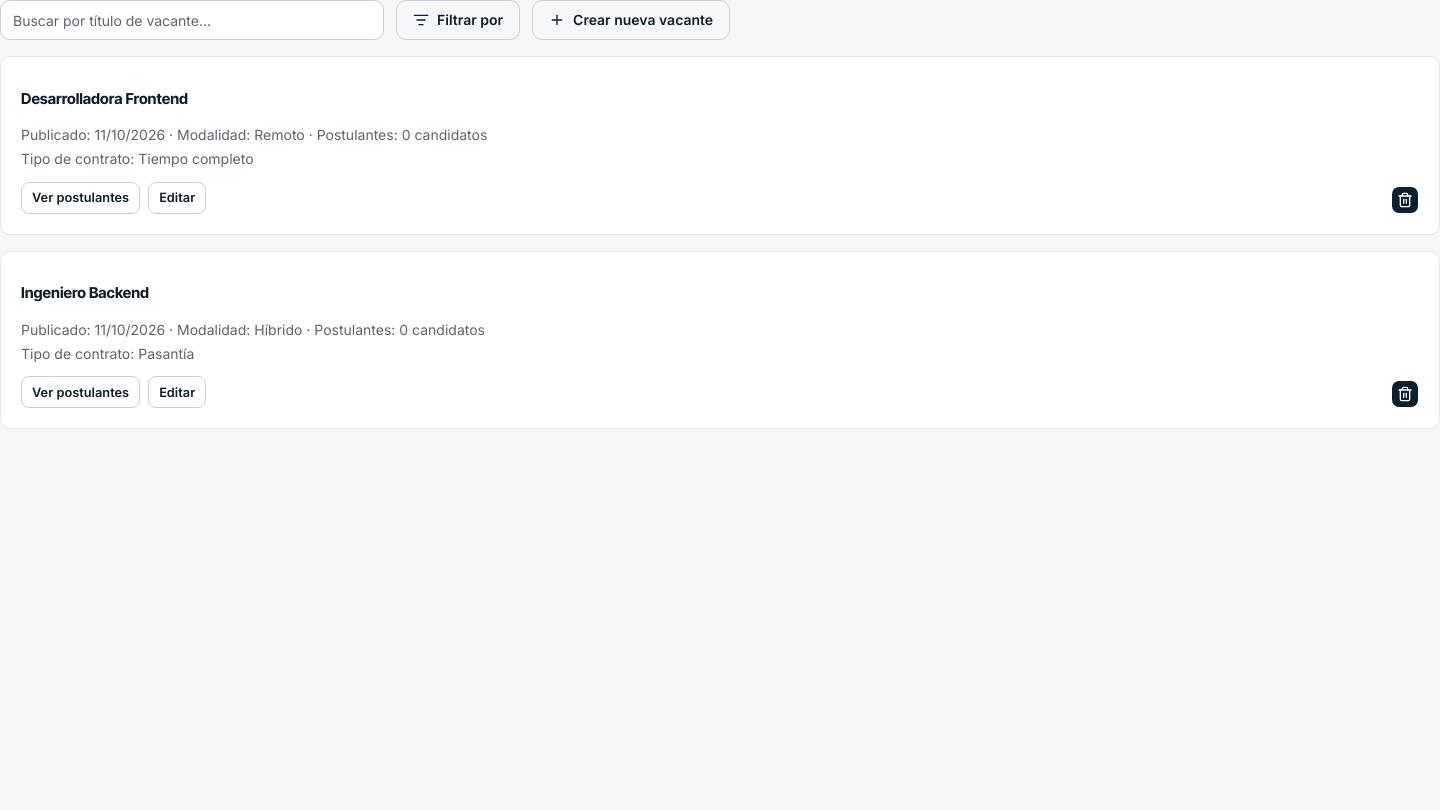
Test case: VacancyList details › no convierte un destino de mapas con esquema inseguro en enlace
Click the button "Desarrolladora Frontend" at (104, 99), box [21,77,188,121]
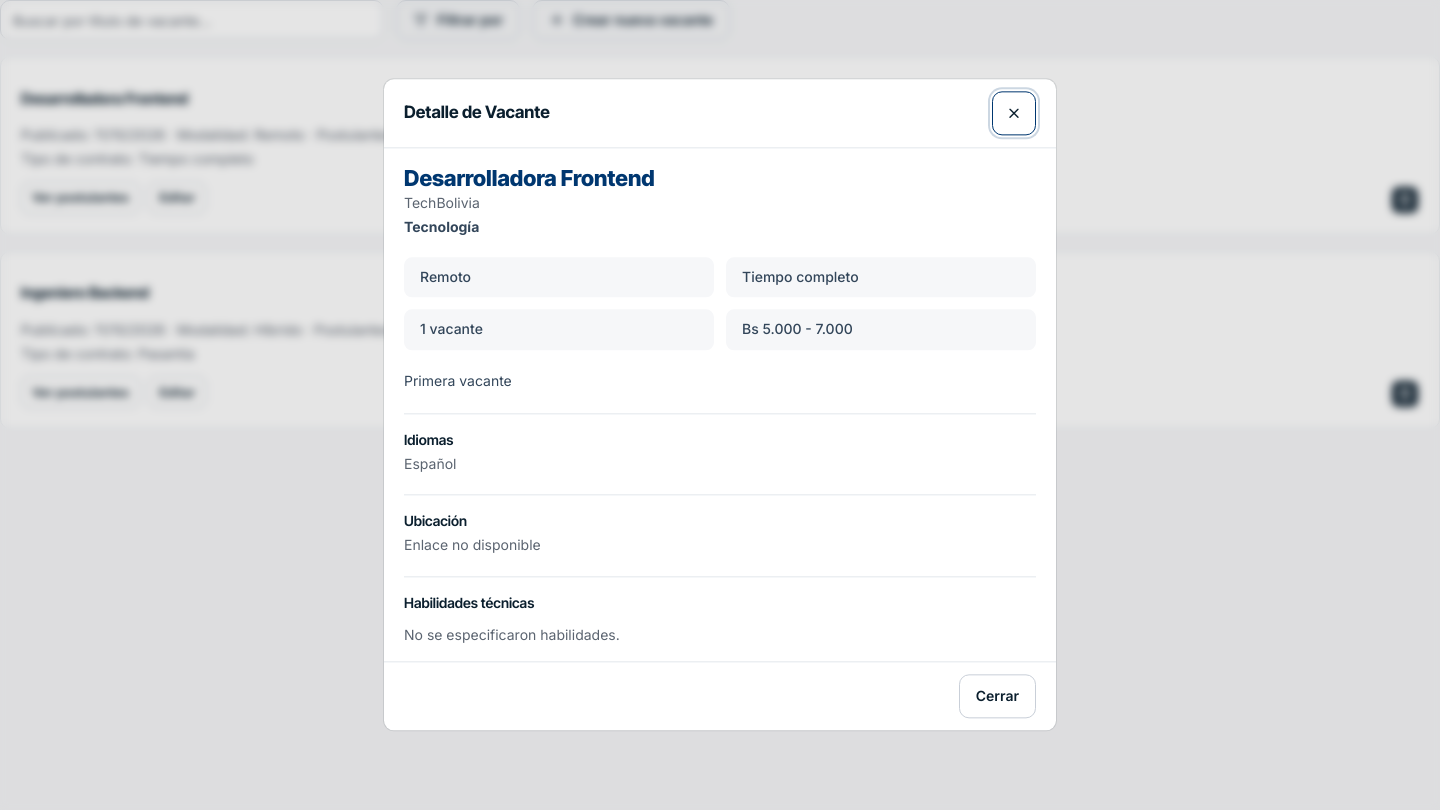
Now the text "Enlace no disponible" is shown, box [404,537,541,554]
